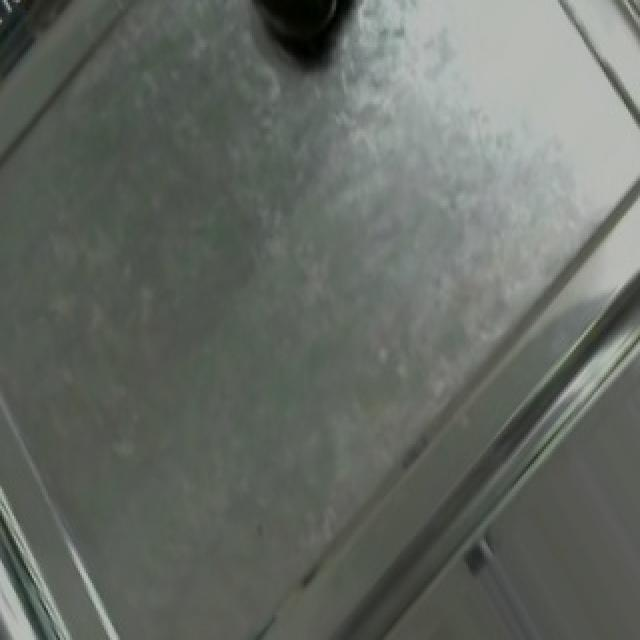Fruit: (230, 0, 364, 69)
